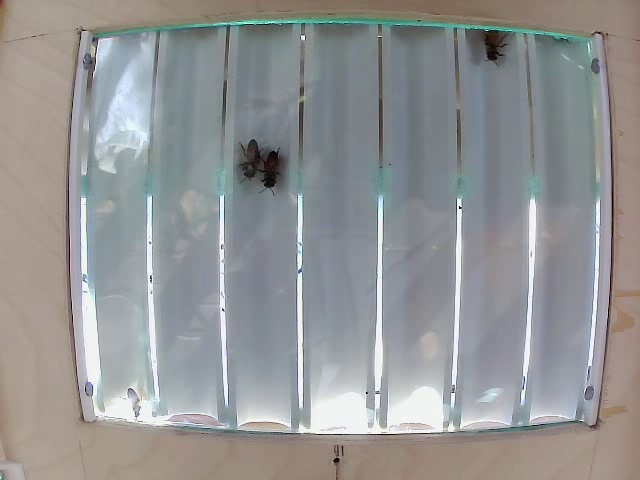bee: (257, 142, 281, 200), (236, 133, 258, 186), (482, 24, 504, 66)
